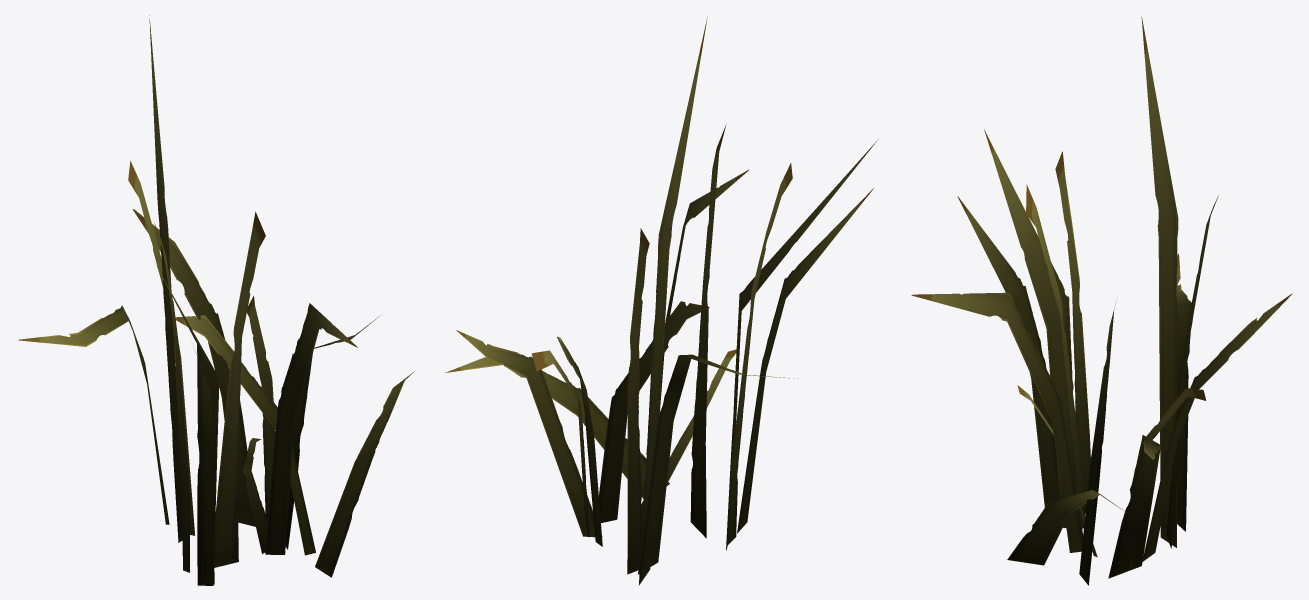
File: cattails_003.fbx
3 views of the same model, side by side, from view 1: azimuth 30°, elevation 25°; view 2: azimuth 150°, elevation 25°; view 3: azimuth 270°, elevation 25° (orthographic). The views are drawn at different scales.
Parts seen in each view (by area): view 1: cattails_003; view 2: cattails_003; view 3: cattails_003.
Part boxes in pixels (left/top/right/bottom): cattails_003: left=18, top=15, right=414, bottom=585; cattails_003: left=445, top=16, right=878, bottom=584; cattails_003: left=911, top=14, right=1291, bottom=585.
Size of the model in its own units: 12005 by 16910 by 11562.
